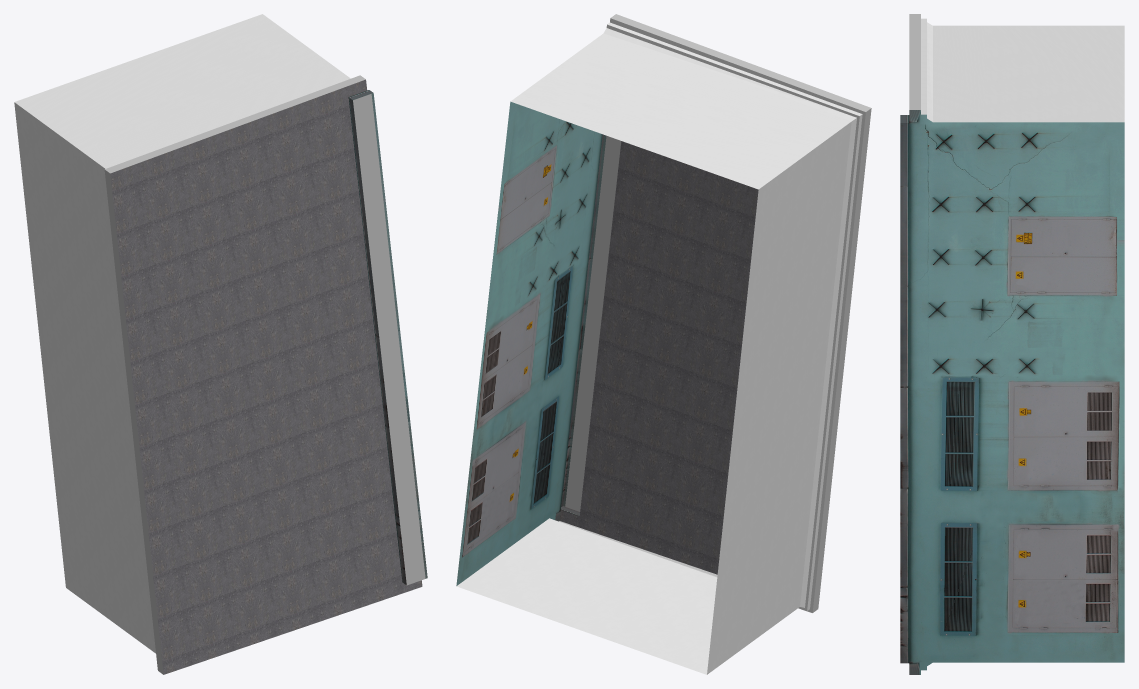
The model's file is Aia_17a.obj.
The picture shows the model from 3 angles, left to right: view 1: azimuth 30°, elevation 25°; view 2: azimuth 150°, elevation 25°; view 3: azimuth 270°, elevation 25°; orthographic projection. The views are drawn at different scales.
Parts seen in each view (by area): view 1: Aia_17a, xxx; view 2: Aia_17a, xxx; view 3: Aia_17a, xxx.
Boxes of the visible parts, <box> form: Aia_17a: <box>14,63,427,674</box>; xxx: <box>14,14,329,151</box>; Aia_17a: <box>456,14,871,674</box>; xxx: <box>510,52,825,189</box>; Aia_17a: <box>900,14,1124,674</box>; xxx: <box>985,25,1124,122</box>.
Bounding box in the file's own units: 7.43 × 12.38 × 4.47.
